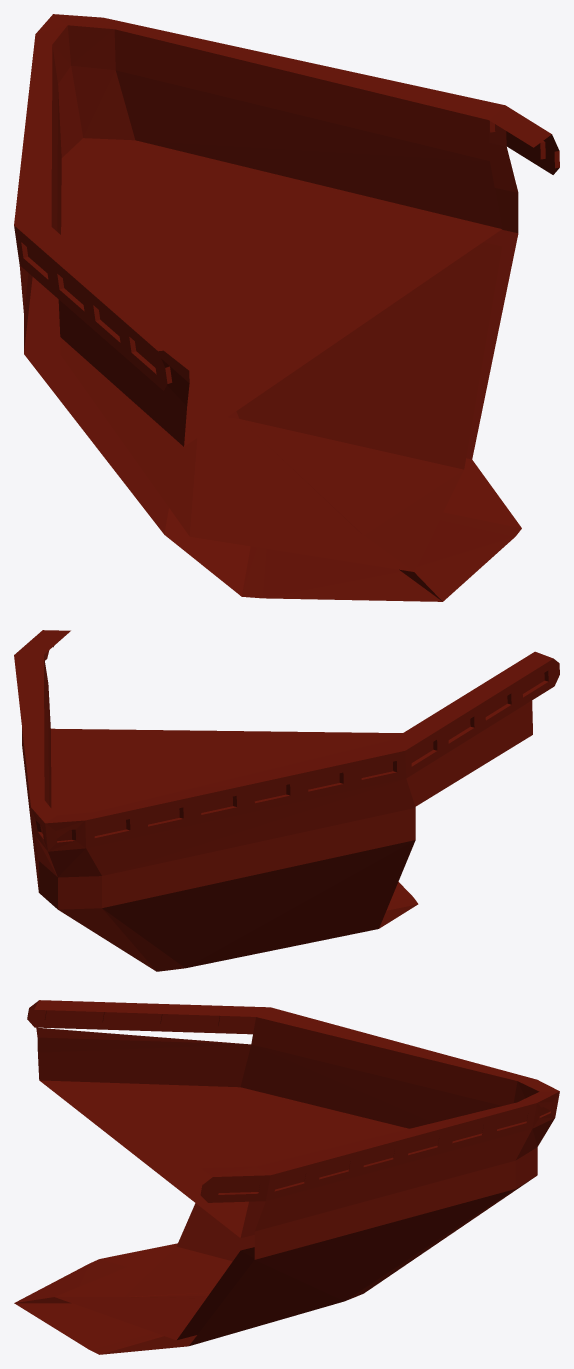
Rendered from ship_piece2.obj.
3 renders of one model, top to bottom at view 1: azimuth 30°, elevation 25°; view 2: azimuth 150°, elevation 25°; view 3: azimuth 270°, elevation 25°, orthographic. The views are drawn at different scales.
Parts seen in each view (by area): view 1: Cube.002; view 2: Cube.002; view 3: Cube.002.
Boxes of the visible parts, bbox=[...] form: Cube.002: bbox=[14, 14, 559, 601]; Cube.002: bbox=[14, 630, 559, 971]; Cube.002: bbox=[14, 1000, 559, 1354].
Bounding box in the file's own units: 1.61 × 0.9118 × 2.09.
